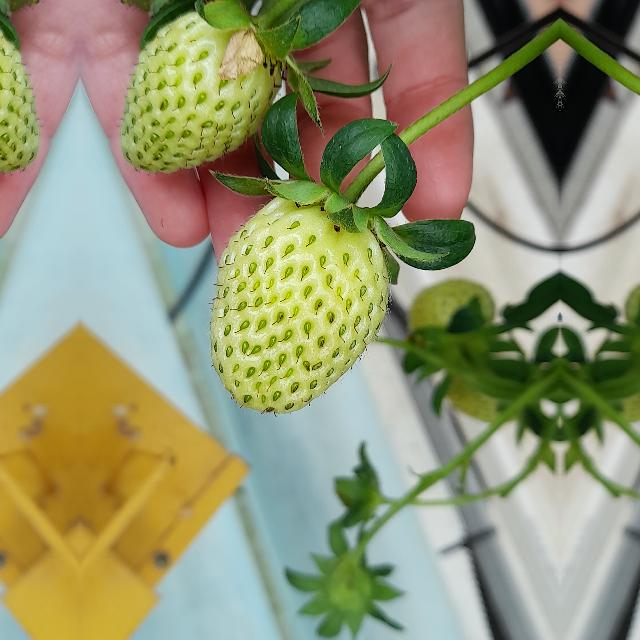Health_25: (208, 196, 388, 414), (119, 0, 291, 182), (0, 0, 41, 182)
